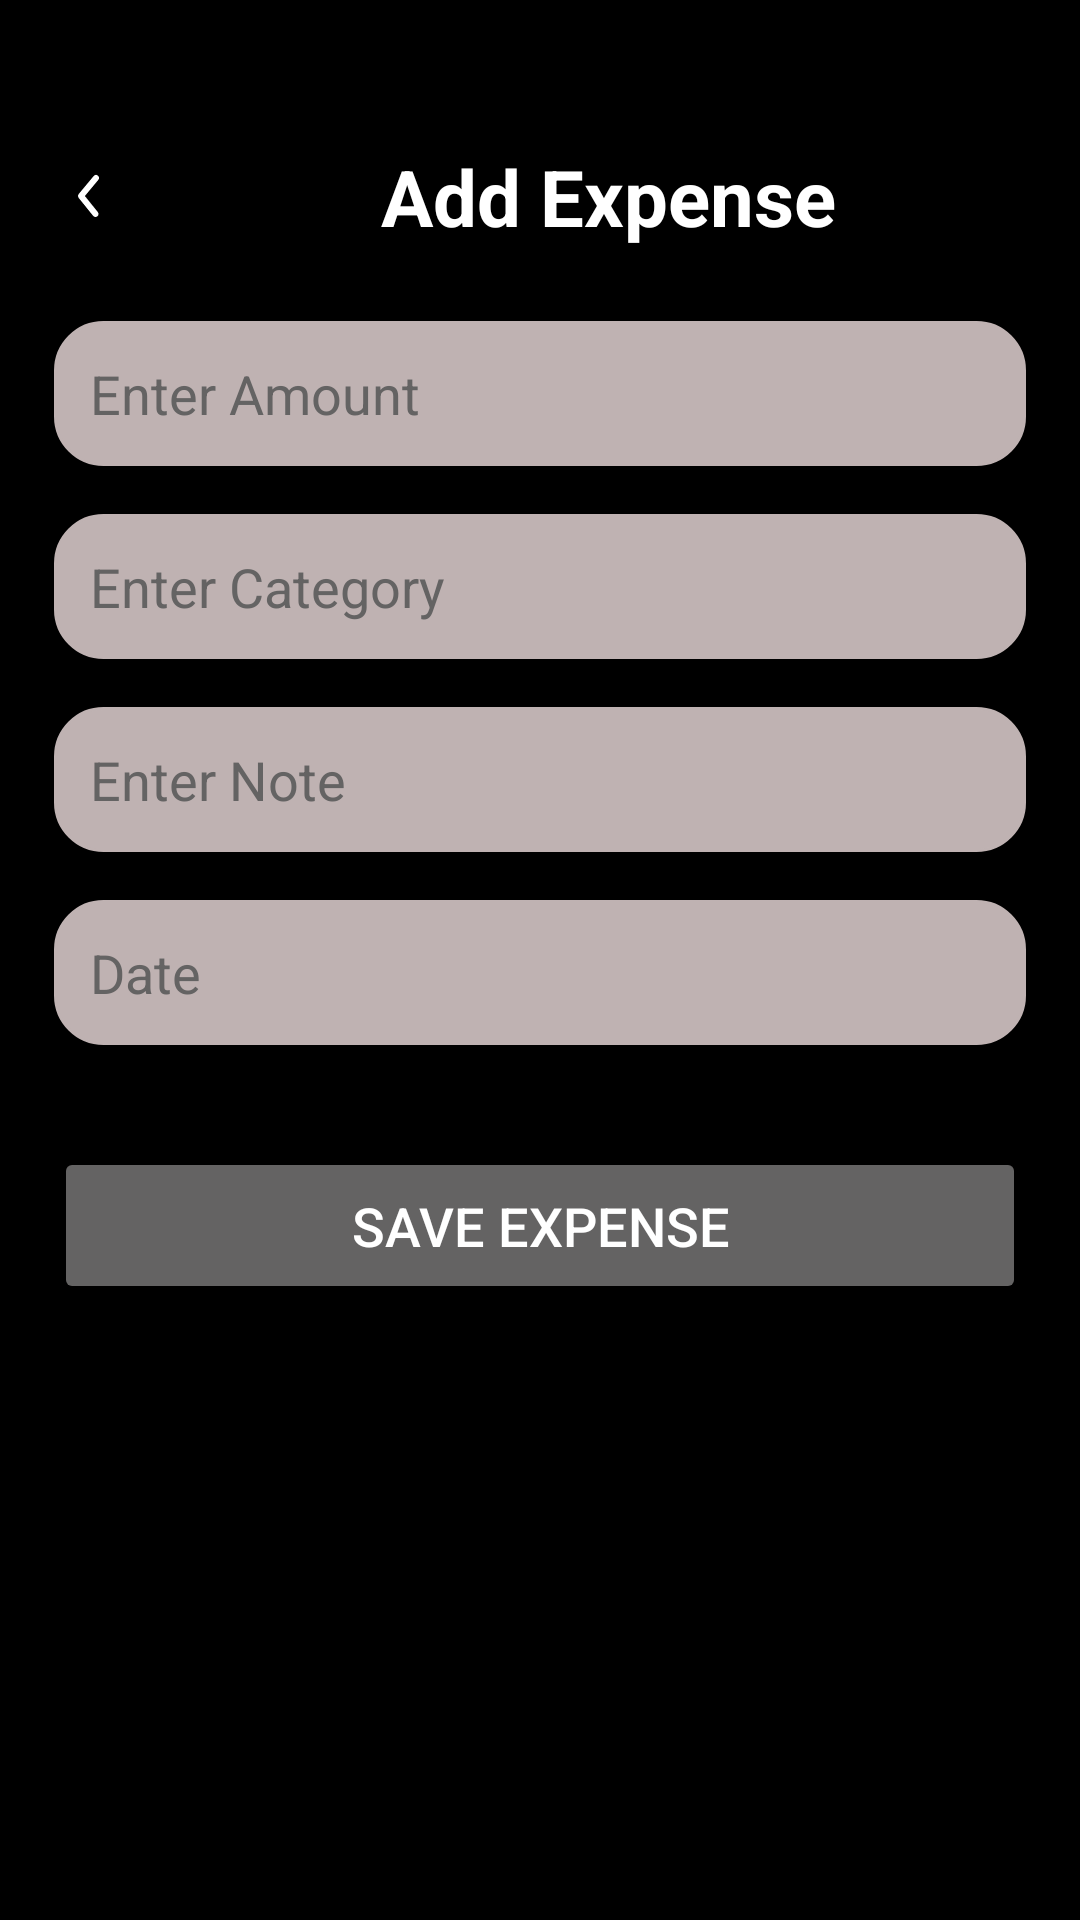

Point at icon controls on the screen. Image size 1080*1920, points as [x,y].
Back: [88,196]
